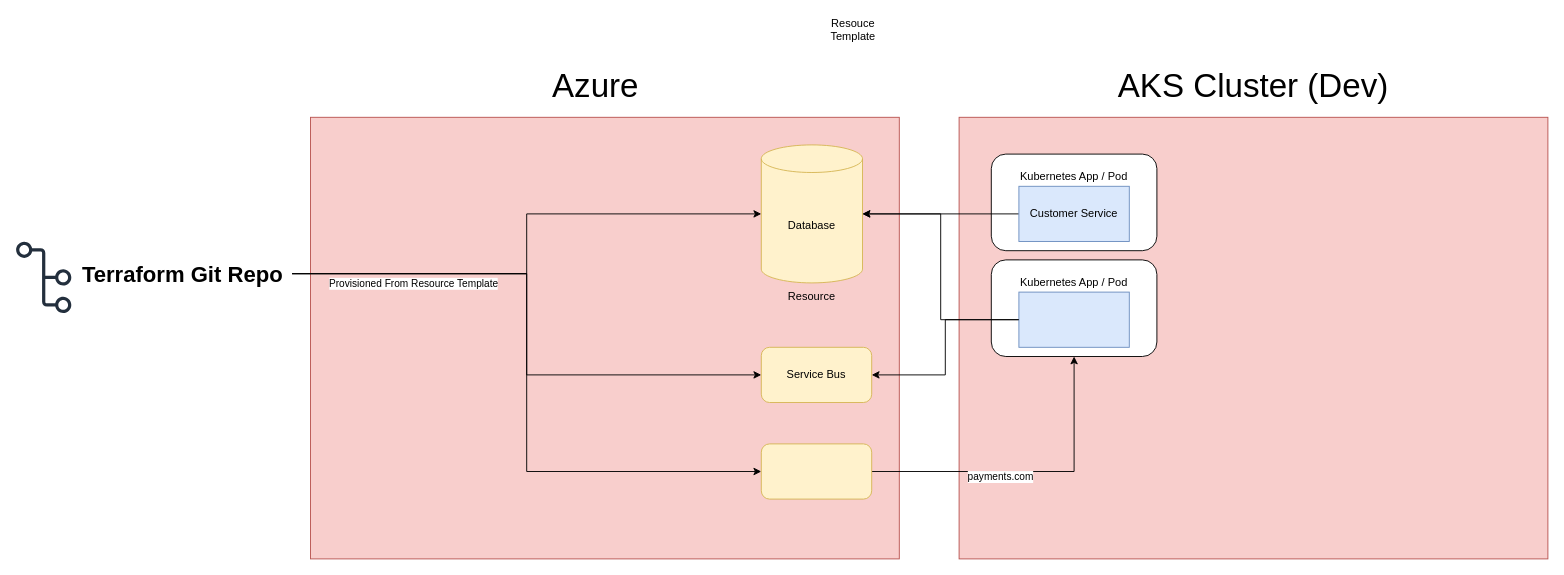
The diagram is 1564 pixels wide and 575 high, and some of its shapes have lost their labels. The shapes that lost their labels are listed below. From the top down, each one's box as (x1, y1, x2, y2) in pixels, then its label:
(1018, 291, 1129, 347): Payment Service
(760, 443, 872, 499): Front Door
